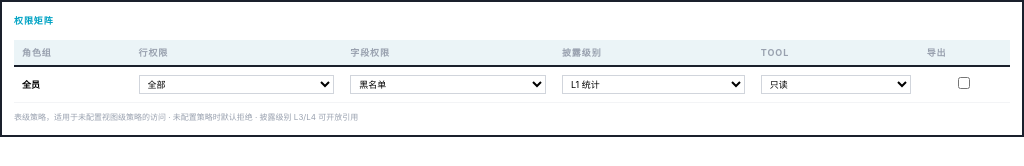
Test: PermissionMatrix › 修改 select 后出现保存按钮
expect the text "保存策略" is not shown: met
Select "仅归属人" in the 1st dropdown at (236, 84), box [139,75,334,94]
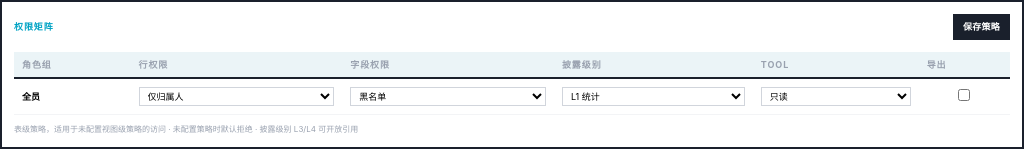
expect the button "保存策略" is shown: met, box [953,14,1010,40]
